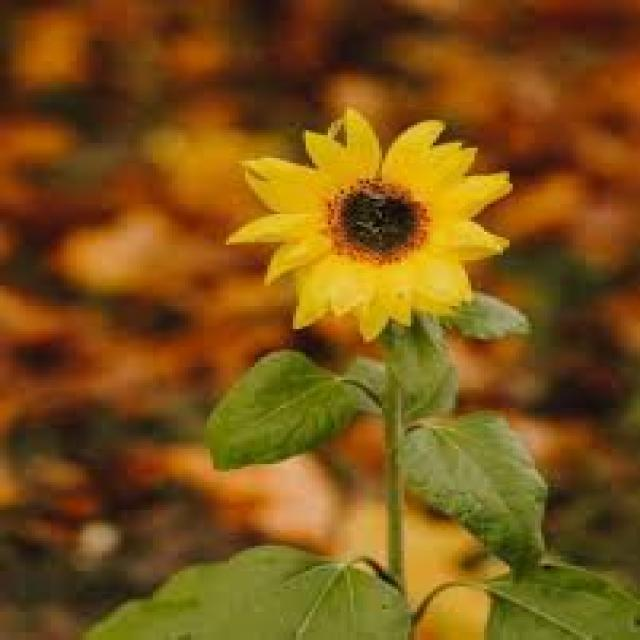sunflower: (223, 105, 513, 342)
